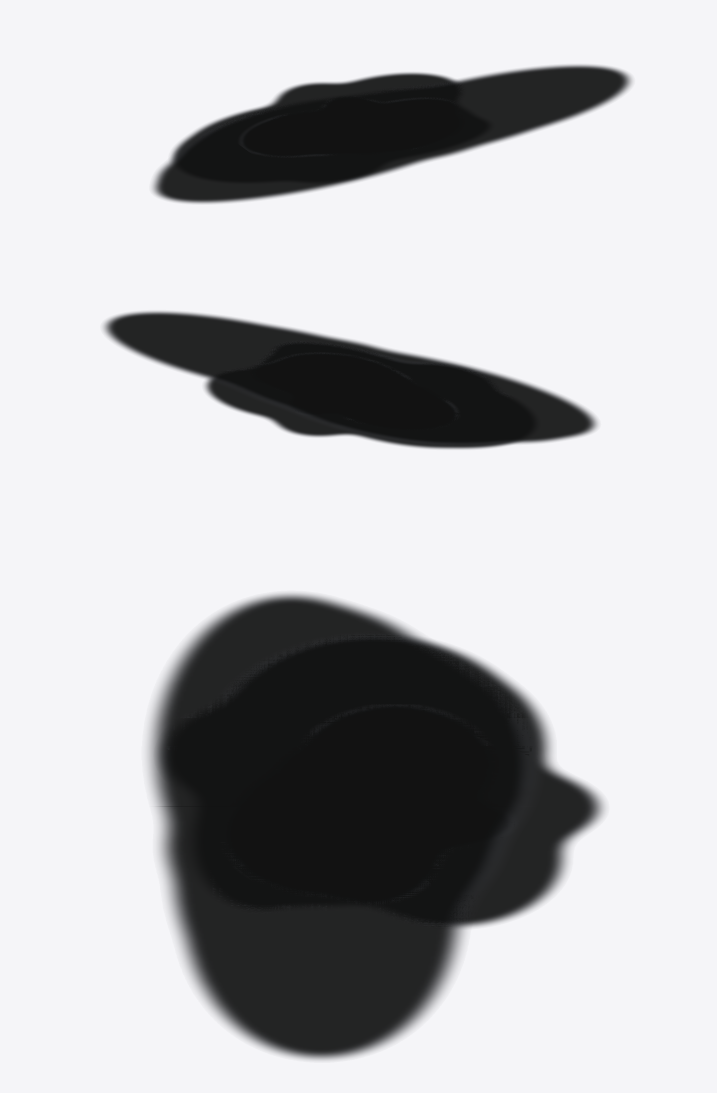
File: puddle_decal.glb
The picture shows the model from 3 angles, top to bottom: view 1: azimuth 30°, elevation 25°; view 2: azimuth 150°, elevation 25°; view 3: azimuth 270°, elevation 25°; orthographic projection. The views are drawn at different scales.
Parts seen in each view (by area): view 1: Puddle_L, Puddle_M, Puddle_S; view 2: Puddle_L, Puddle_M, Puddle_S; view 3: Puddle_L, Puddle_M, Puddle_S.
Boxes of the visible parts, <box> form: Puddle_L: <box>152,64,631,203</box>; Puddle_M: <box>171,72,460,180</box>; Puddle_S: <box>239,97,455,157</box>; Puddle_L: <box>103,311,597,445</box>; Puddle_M: <box>204,341,523,448</box>; Puddle_S: <box>257,352,458,428</box>; Puddle_L: <box>147,593,539,1059</box>; Puddle_M: <box>166,634,604,927</box>; Puddle_S: <box>226,704,513,903</box>.
Size of the model in its own units: 3.2 by 0 by 1.4.
1 material, 1 textured.
